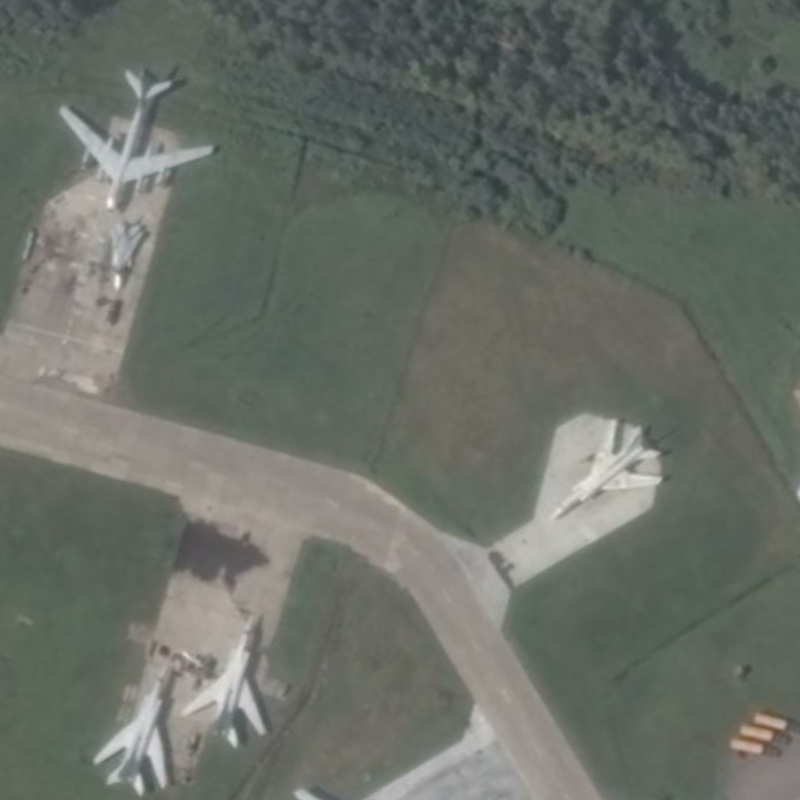A12: (547, 416, 666, 522), (179, 612, 269, 750), (92, 663, 169, 798)
A17: (57, 65, 217, 217)
A20: (108, 220, 146, 293)
